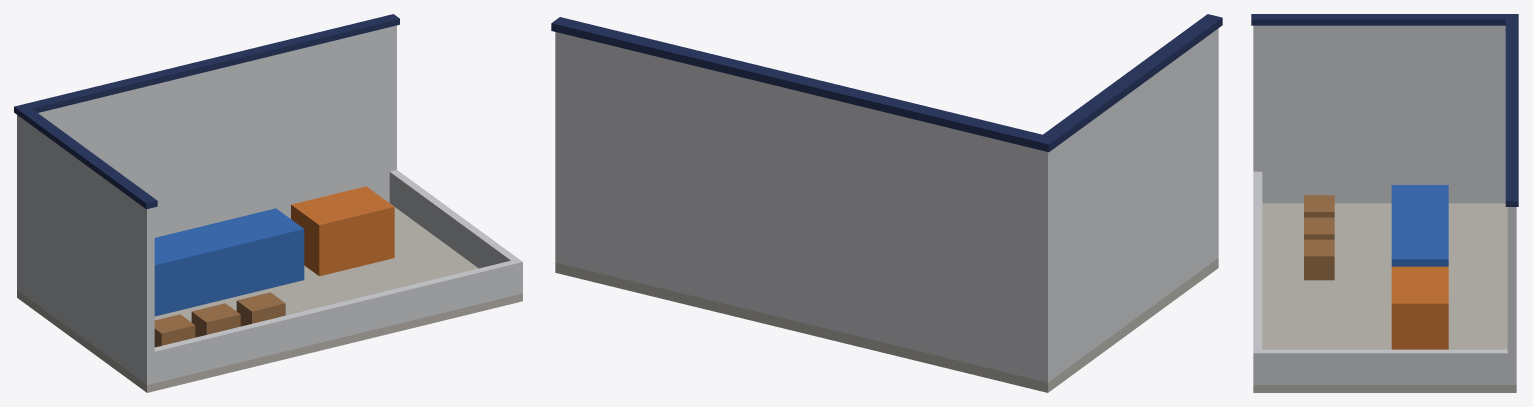
Rendered from inspection_hall.glb.
3 views of the same model, side by side, from view 1: azimuth 30°, elevation 25°; view 2: azimuth 150°, elevation 25°; view 3: azimuth 270°, elevation 25° (orthographic). The views are drawn at different scales.
Parts seen in each view (by area): view 1: inspection_hall; view 2: inspection_hall; view 3: inspection_hall.
Boxes of the visible parts, x1,y1,x2,y2 form: inspection_hall: (14,14,522,392); inspection_hall: (551,14,1222,392); inspection_hall: (1251,14,1518,392).
Size of the model in its own units: 10.1 by 4.85 by 6.1.
